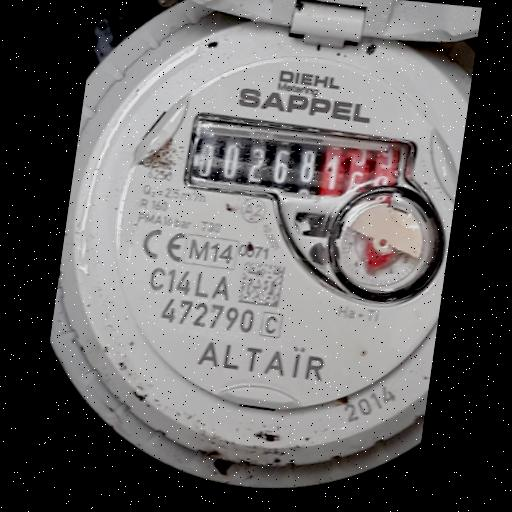0: (212, 134, 246, 185), (189, 130, 221, 182)
1: (317, 144, 349, 199)
2: (239, 135, 272, 188)
5: (342, 147, 374, 198)
6: (264, 138, 298, 194)
8: (290, 141, 324, 195)
9: (367, 142, 403, 193)
border_water_meter_number: (187, 108, 410, 220)
